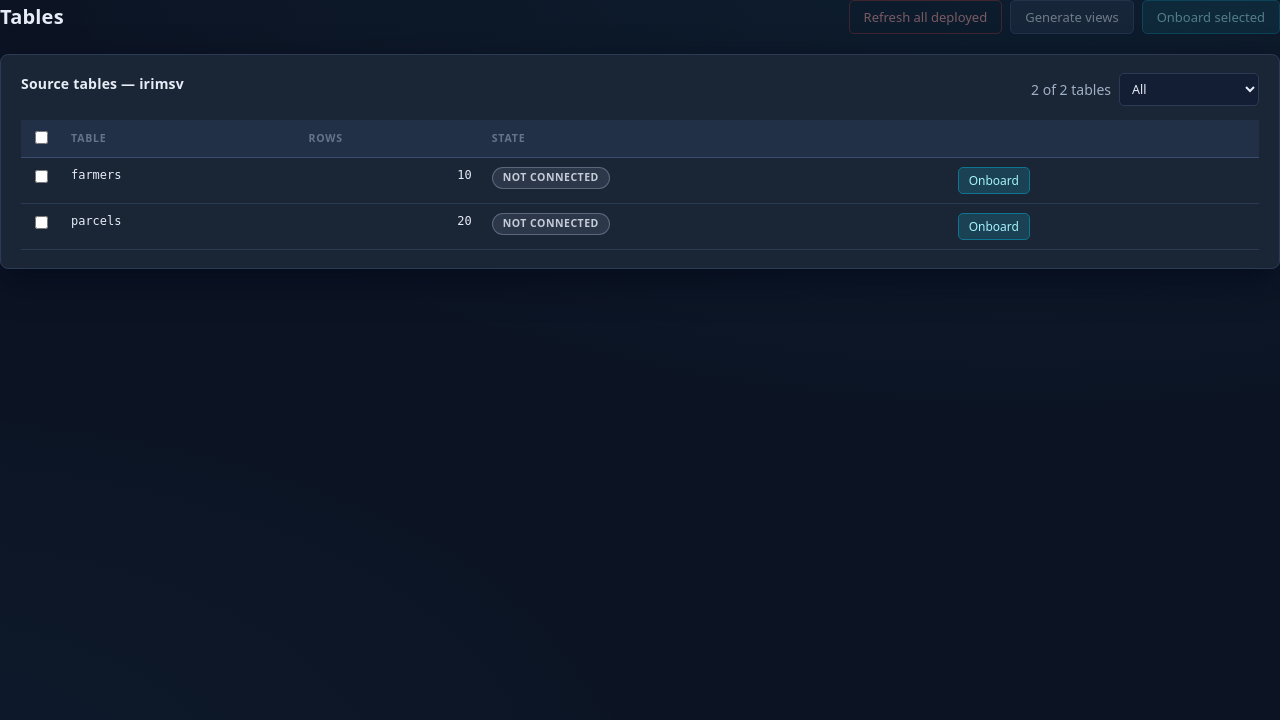
it: Tables (bulk onboard) › requires a reason before the onboard confirm button enables
The width and height of the screenshot is (1280, 720).
Expected: the text "farmers" is shown, [61,157,298,203]
Click the checkbox named "Select farmers": (42, 176) [35,170,48,183]
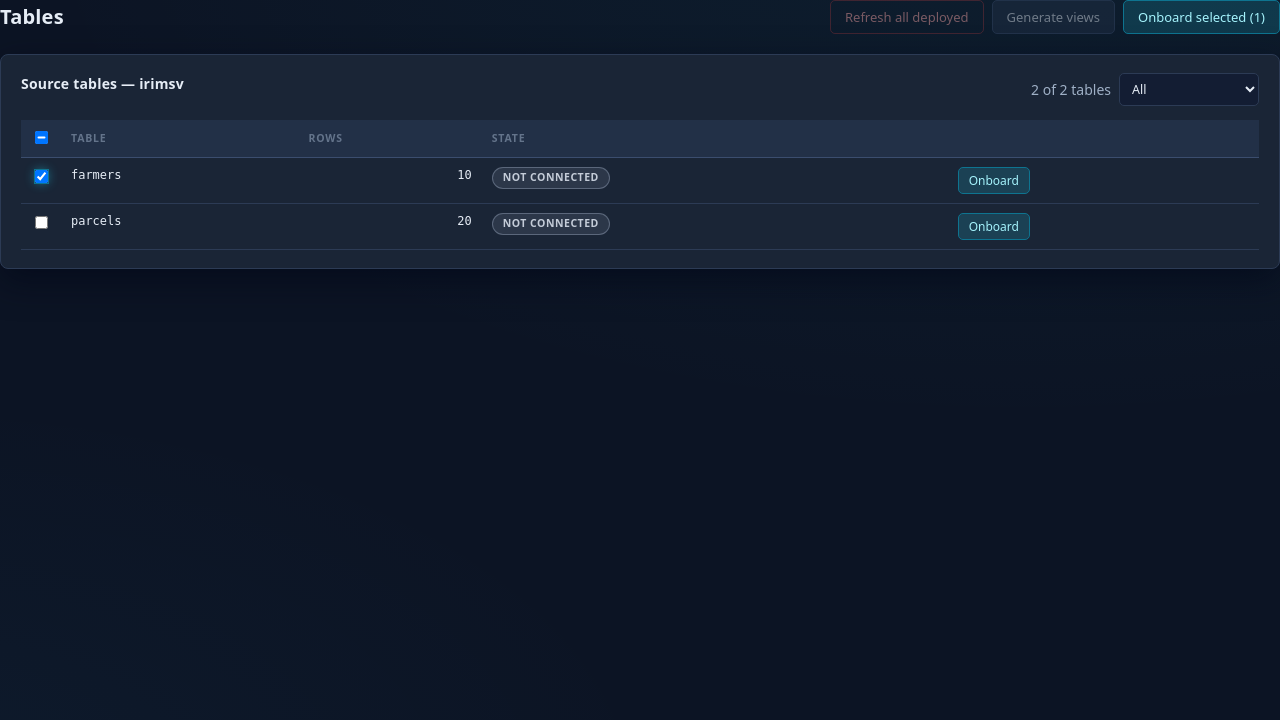
Click the button "Onboard selected (1)": (1202, 17) [1123,0,1279,34]
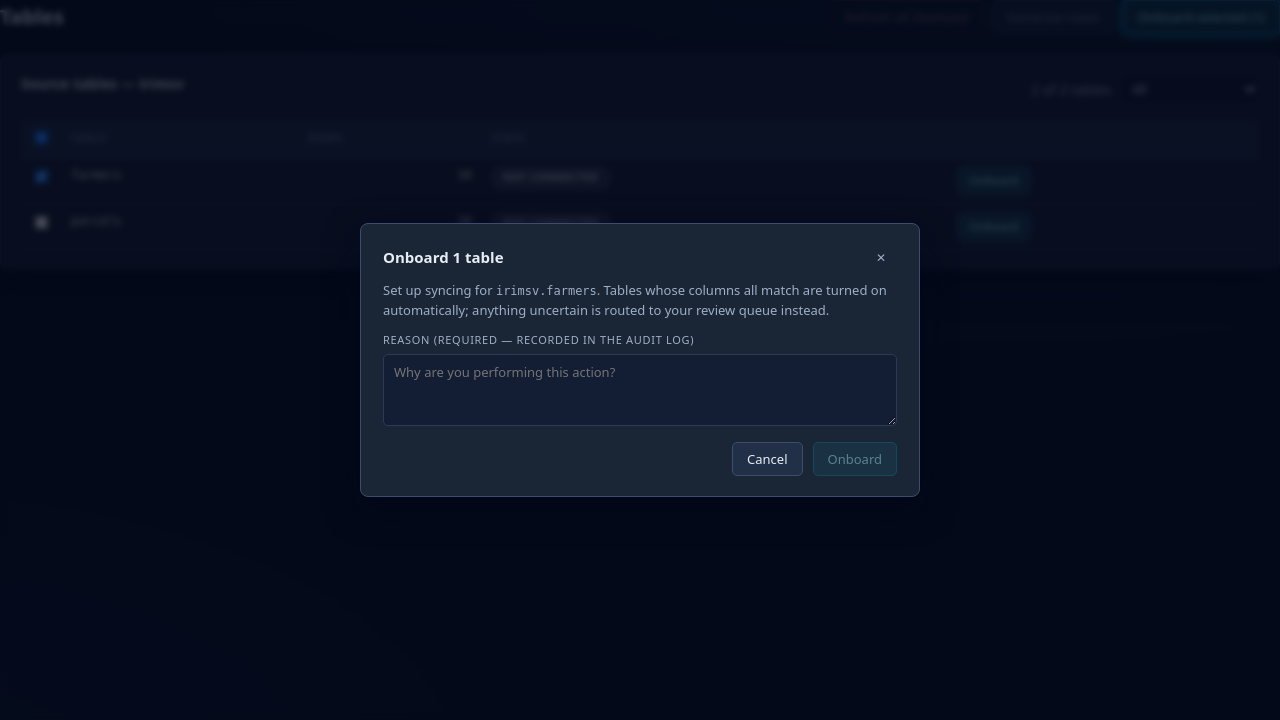
Now the button "Onboard" is disabled, box [812,442,897,476]
In the text box labelled "Reason": (640, 390) [383,354,897,426], type "onboarding farmers for Q3"
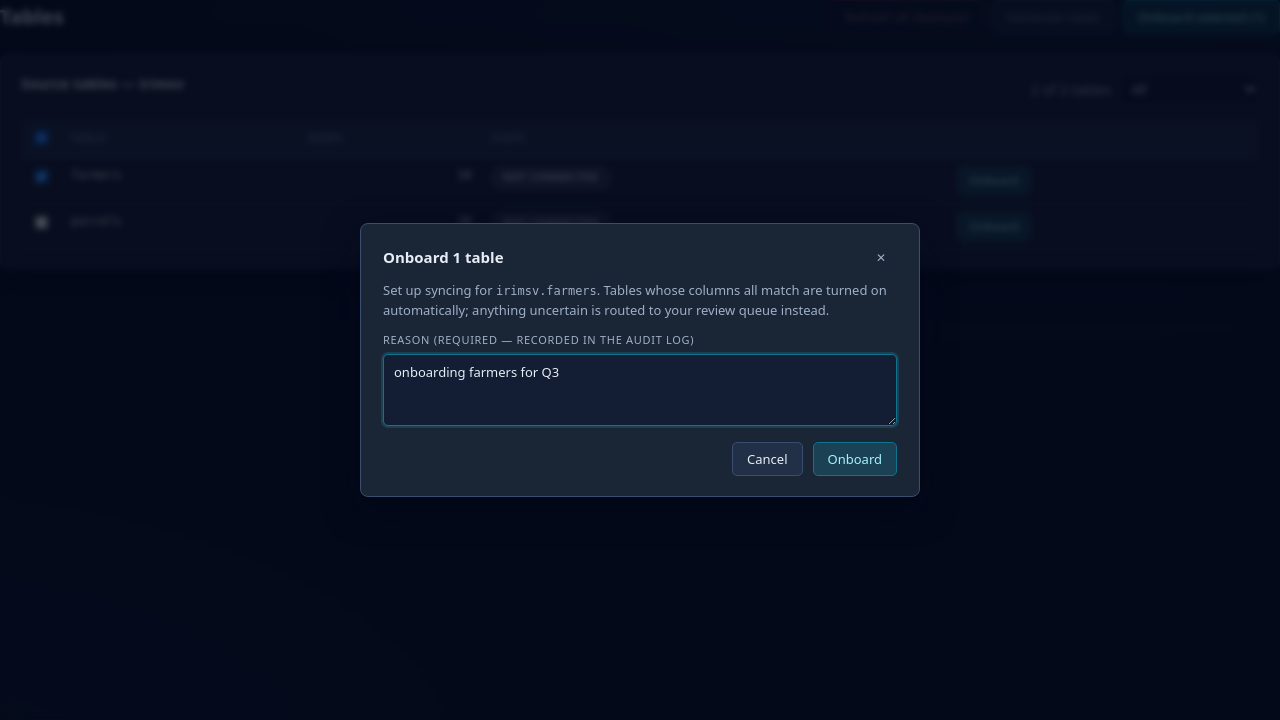
Now the button "Onboard" is enabled, box [812,442,897,476]
